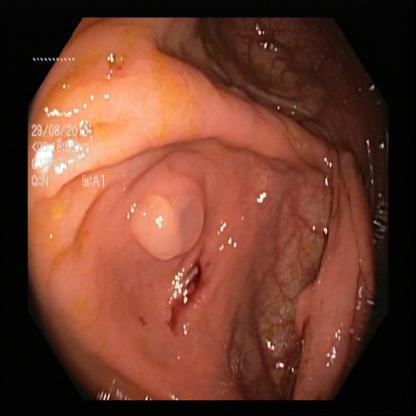Labels: (26, 113, 115, 195)
Polyps: (133, 166, 207, 262)
